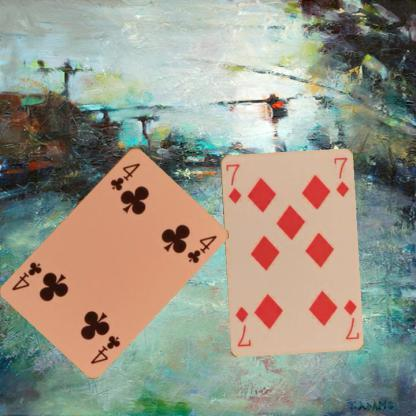4c: (107, 159, 142, 192), (88, 332, 122, 365)
7d: (340, 296, 360, 341), (223, 161, 243, 205)
